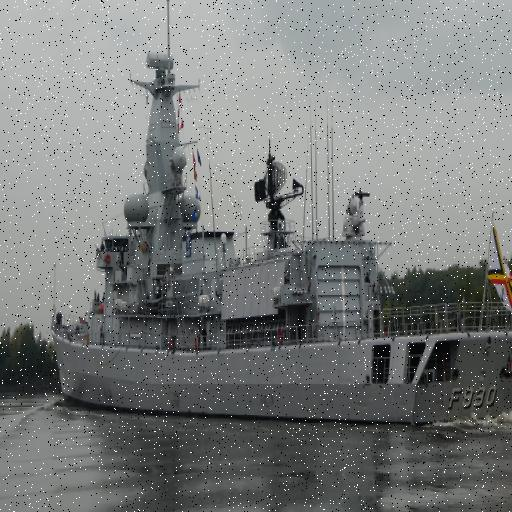Fragata: (50, 1, 512, 432)
